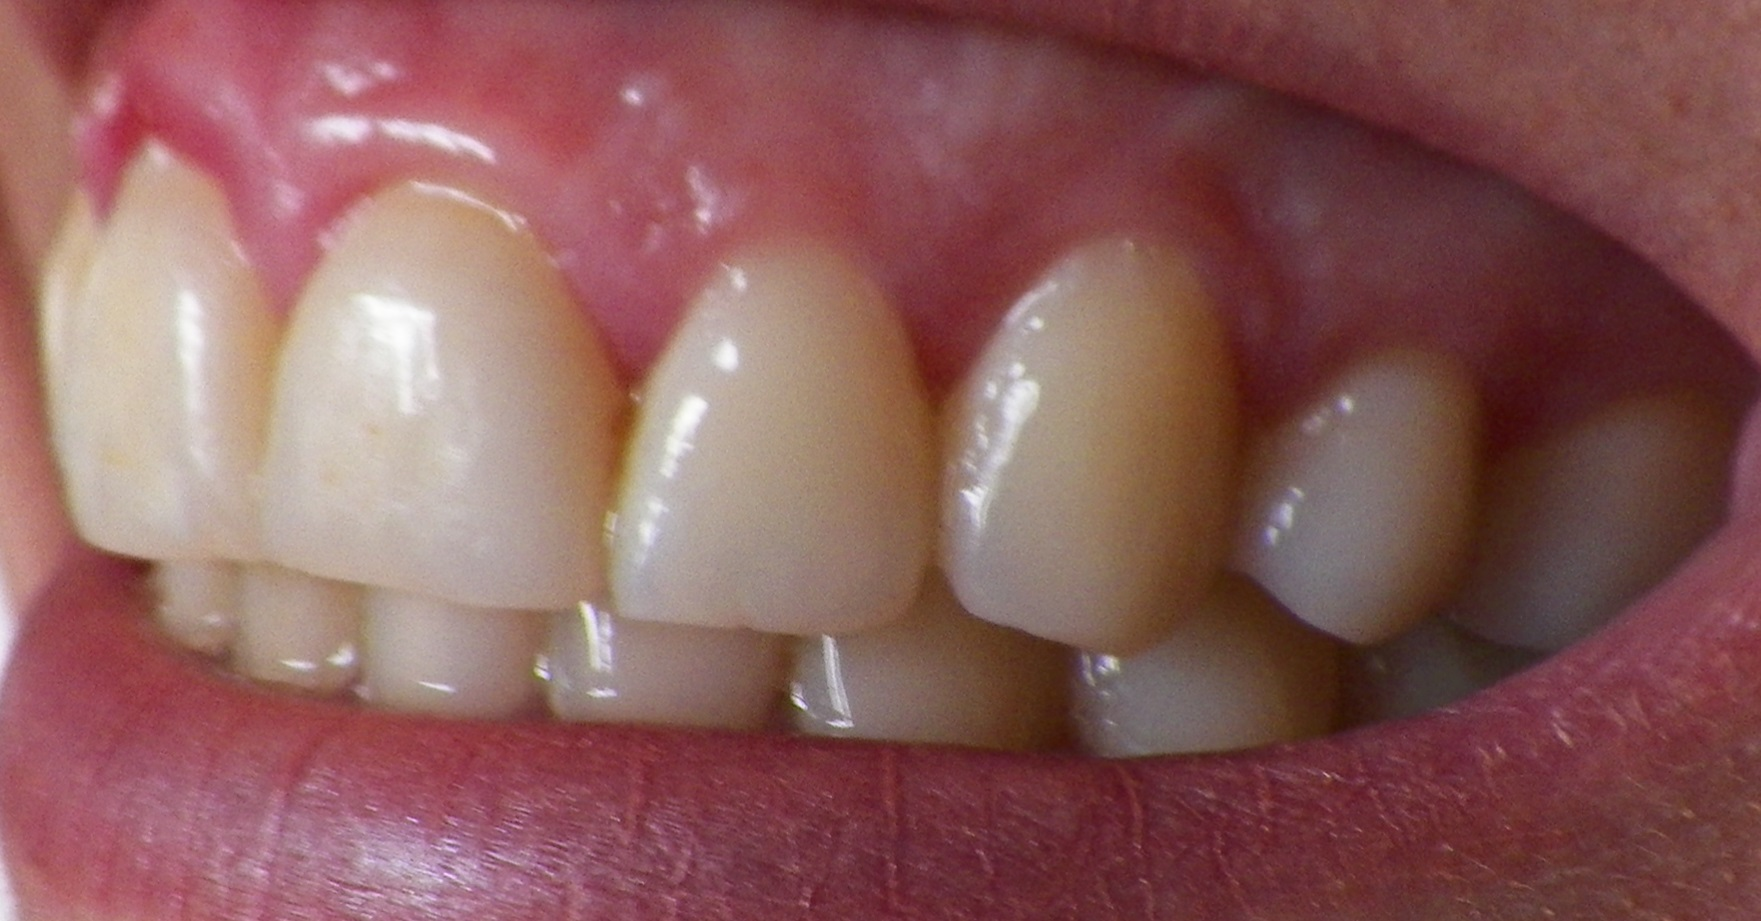boca: (34, 135, 1716, 749)
